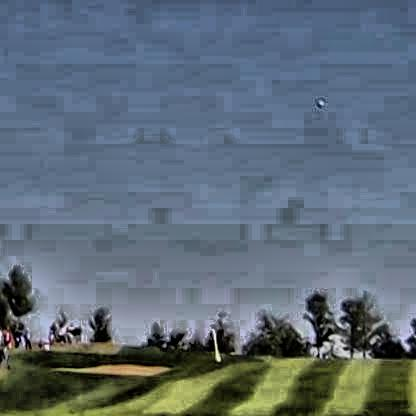golfball: (314, 98, 323, 105)
